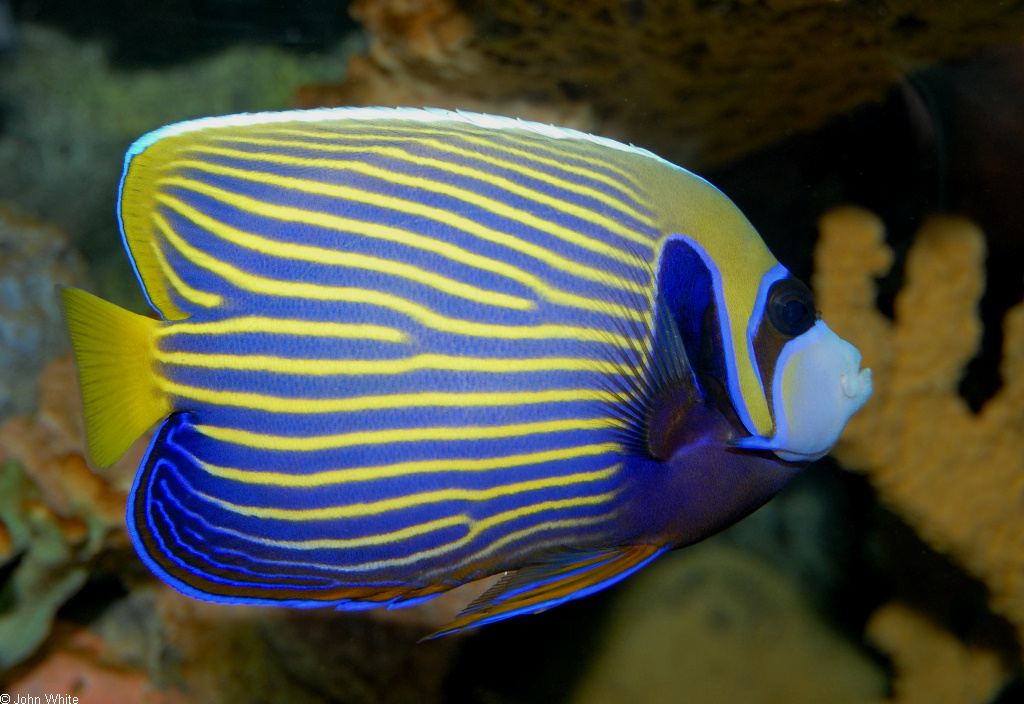Pomacanthus_imperator: (34, 67, 906, 656)
